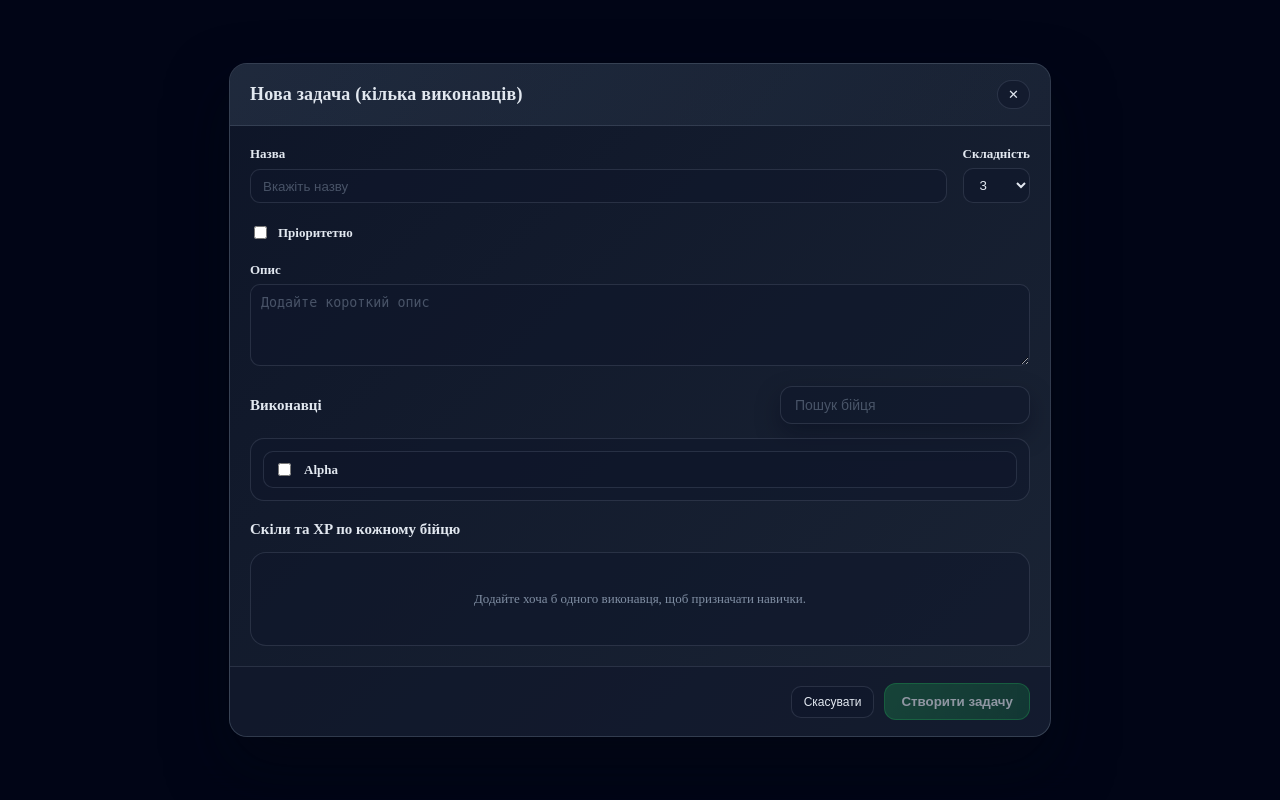
it: MultiAssignTaskModal › clears validation error when modal is closed
This screenshot has width=1280, height=800.
Type "Розвідка" into the field with placeholder "Вкажіть назву". click: (598, 186)
box: x1=250 y1=169 x2=947 y2=203
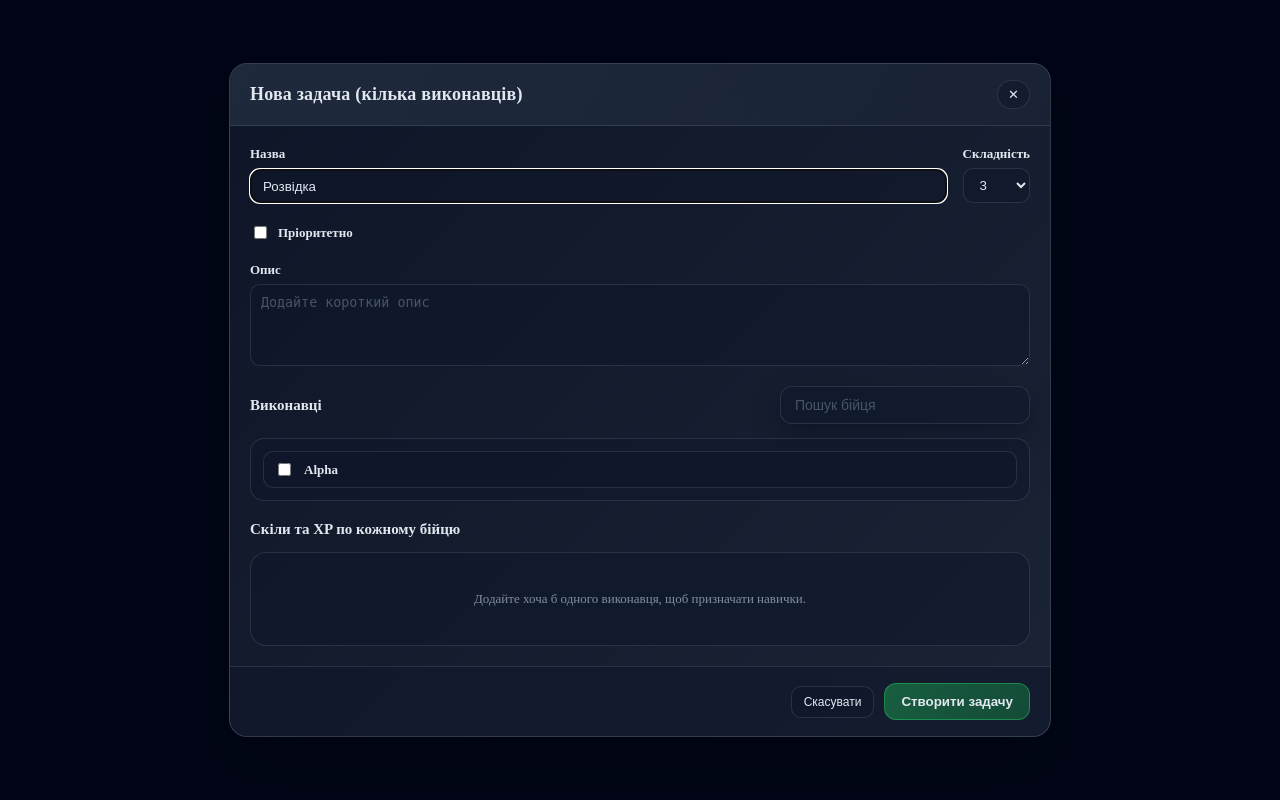
Click the button "Створити задачу". click: (957, 702)
box: x1=884 y1=683 x2=1030 y2=720
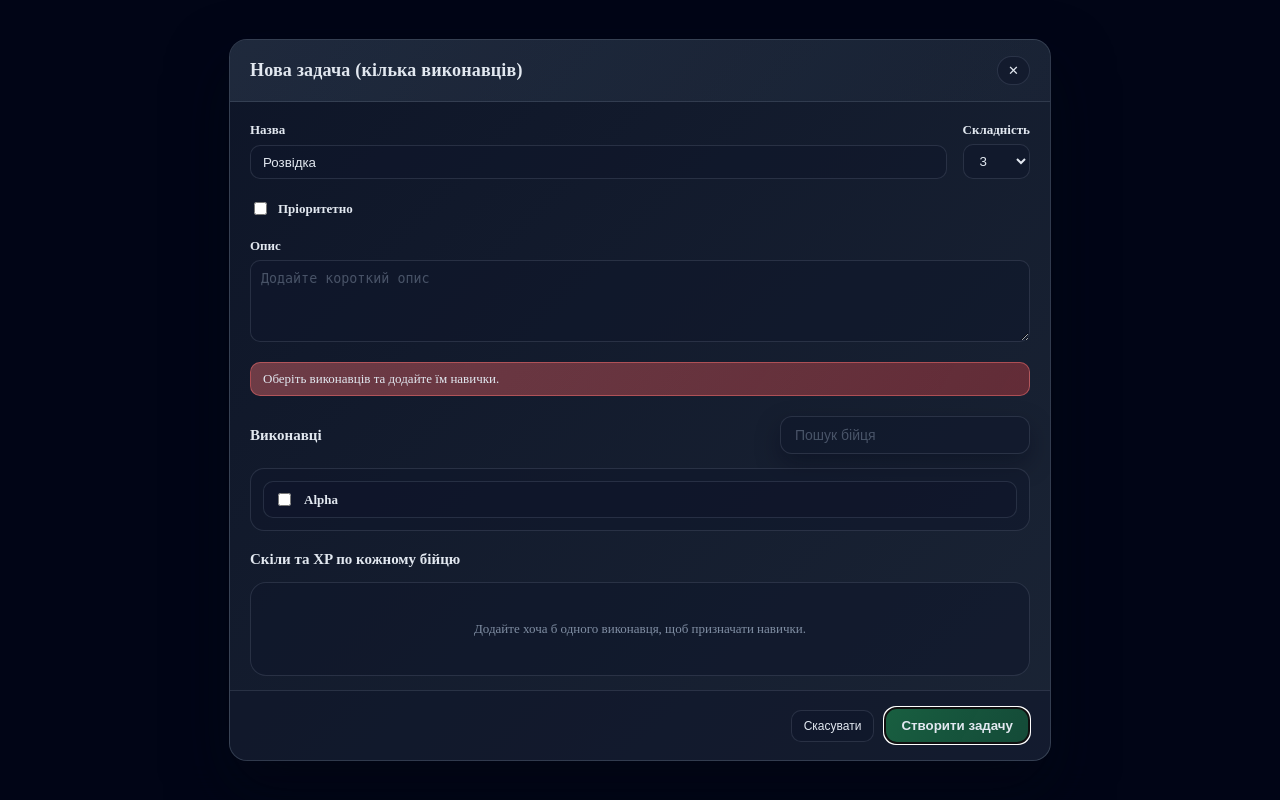
Result: the text "Оберіть виконавців та додайте їм навички." is shown at x1=250 y1=362 x2=1030 y2=396
Click the button "Скасувати". click: (833, 726)
box: x1=791 y1=710 x2=874 y2=742
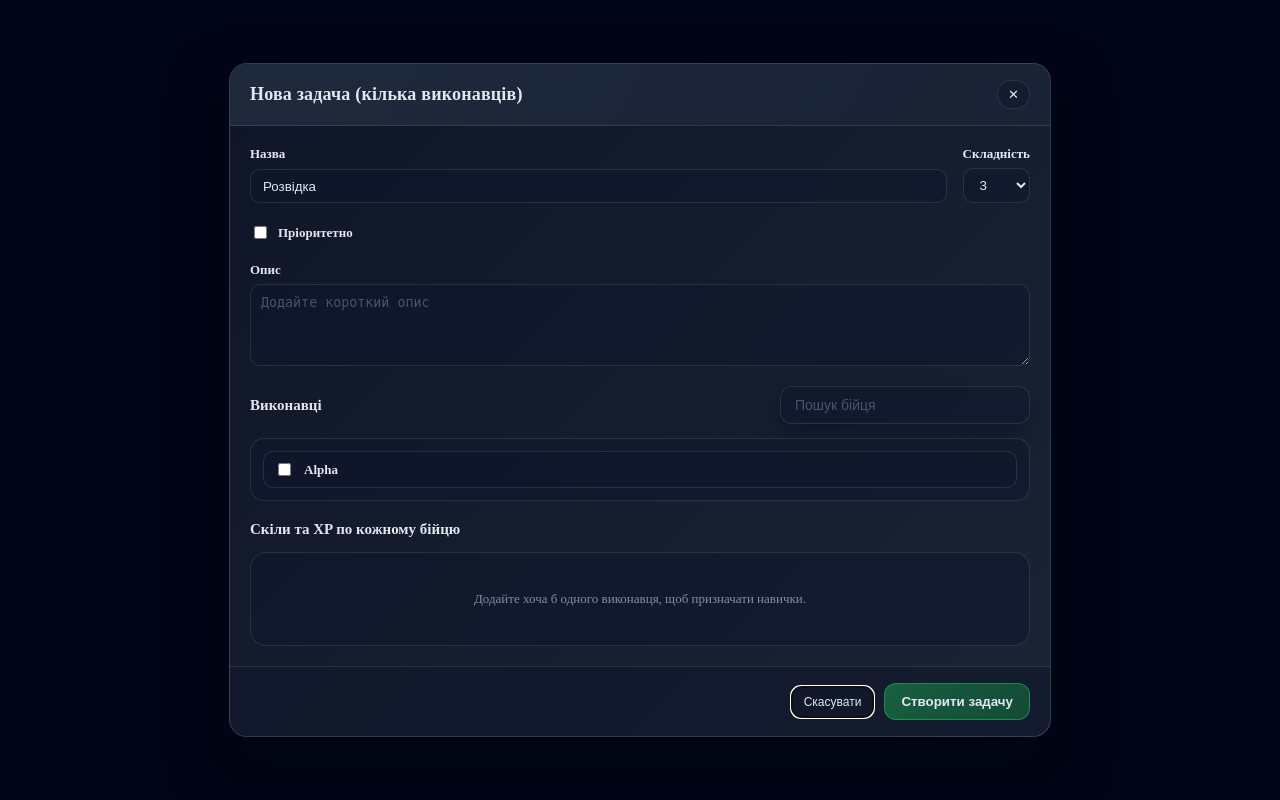
Result: the text "Оберіть виконавців та додайте їм навички." is gone
